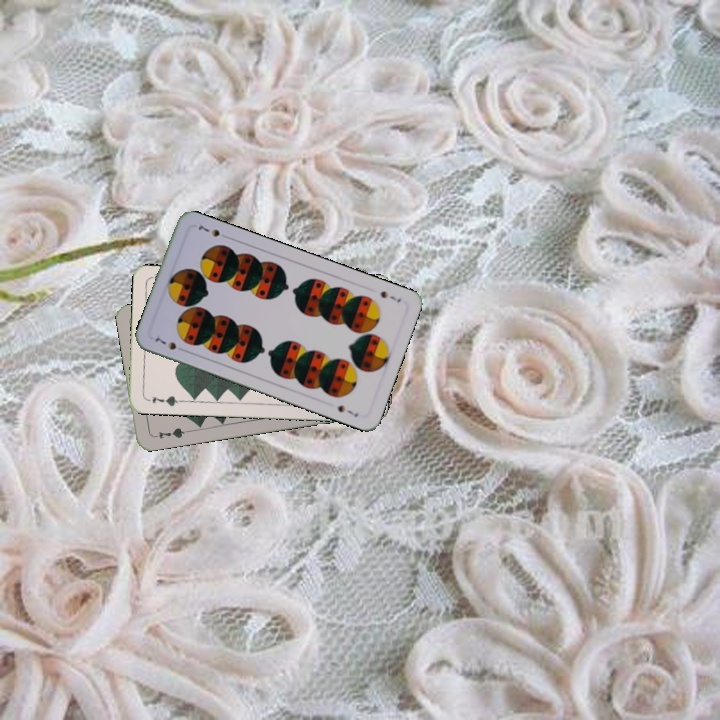G7: (149, 423, 189, 441), (143, 392, 183, 409)
S7: (151, 334, 188, 354), (376, 287, 404, 305)
